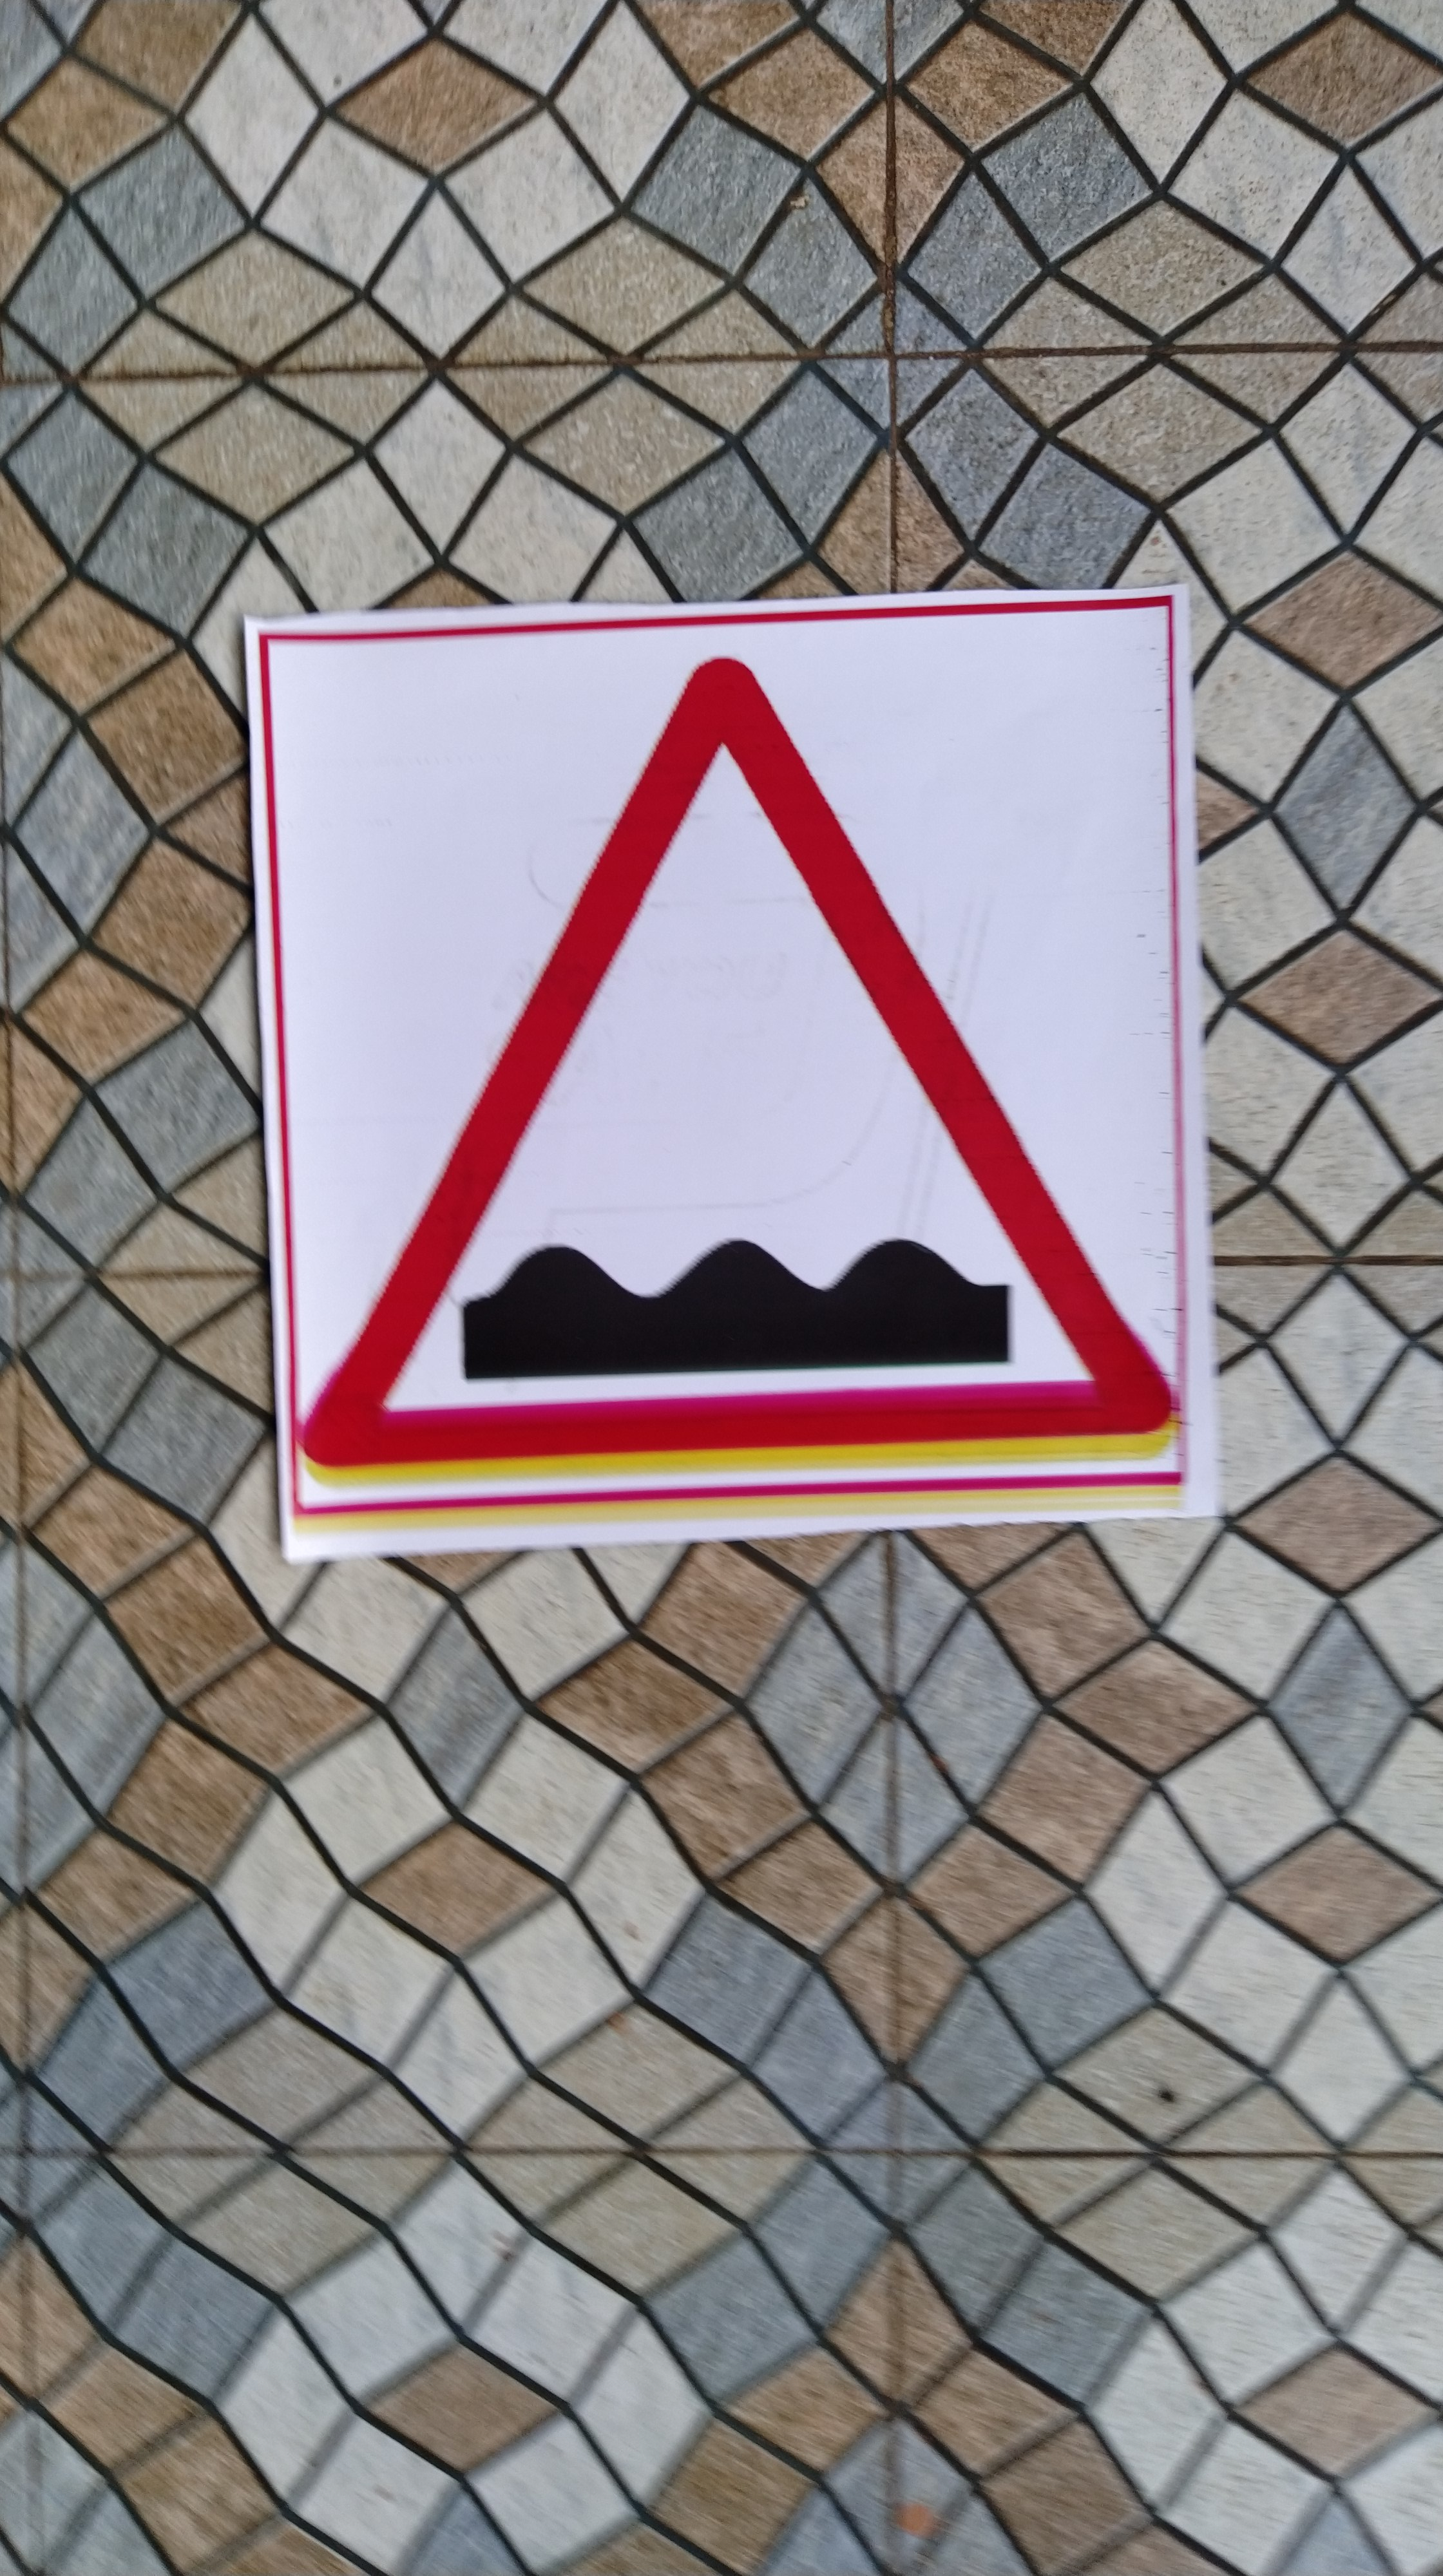speed breaker: (248, 630, 1227, 1527)
